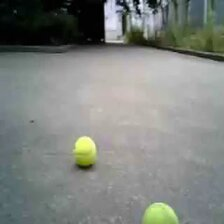tennis: (142, 203, 179, 224), (72, 136, 96, 167)
